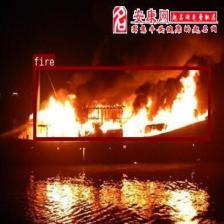fire: (33, 66, 210, 140)
